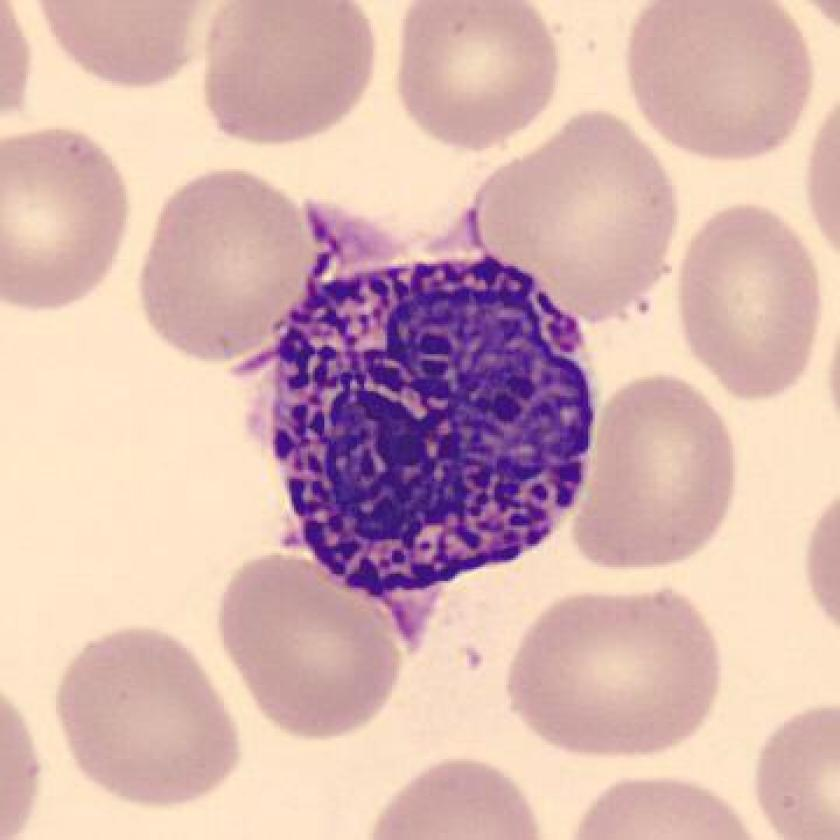basophil: (272, 254, 601, 608)
